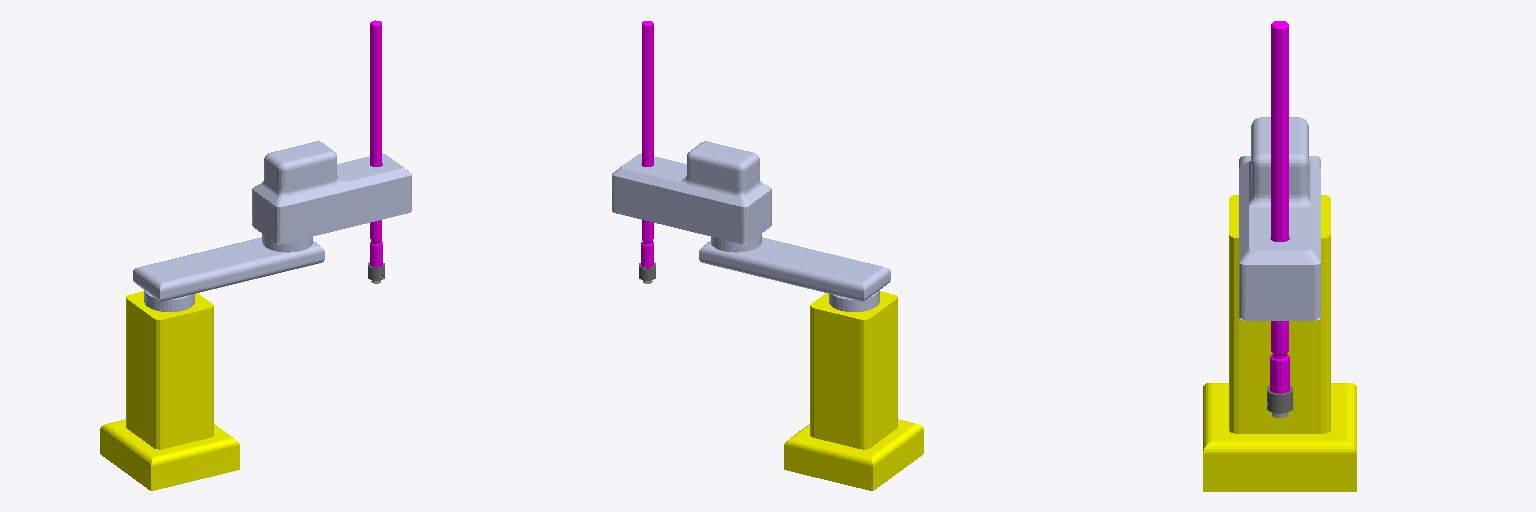
robot.urdf — scara:
<?xml version="1.0" encoding="utf-8"?>
<robot name="scara">

  <!-- Welt- und Basis-Link -->
  <link name="world" />

  <link name="base_link">
    <inertial>
      <origin xyz="8.7173E-18 -3.8342E-18 0.10291" rpy="0 0 0" />
      <mass value="2.7821" />
      <inertia ixx="0.021401" ixy="-1.9687E-19" ixz="-3.5753E-19" iyy="0.021401" iyz="6.9508E-19" izz="0.0074192" />
    </inertial>
    <visual>
      <origin xyz="0 0 0" rpy="0 0 0" />
      <geometry>
        <mesh filename="package://scara/meshes/base_link.STL" />
      </geometry>
      <material name="">
        <color rgba="1 1 0 1" />
      </material>
    </visual>
    <collision>
      <origin xyz="0 0 0" rpy="0 0 0" />
      <geometry>
        <mesh filename="package://scara/meshes/base_link.STL" />
      </geometry>
    </collision>
  </link>

  <joint name="world_joint" type="fixed">
    <parent link="world" />
    <child link="base_link" />
    <origin xyz="0 0 0" rpy="0 0 0" />
  </joint>

  <!-- Link1 -->
  <link name="Link1">
    <inertial>
      <origin xyz="0.08204 -8.9299E-17 0.030511" rpy="0 0 0" />
      <mass value="0.71062" />
      <inertia ixx="0.00037208" ixy="8.7629E-09" ixz="1.5979E-06" iyy="0.0035198" iyz="3.6632E-20" izz="0.0038467" />
    </inertial>
    <visual>
      <geometry>
        <mesh filename="package://scara/meshes/Link1.STL" />
      </geometry>
      <material name="">
        <color rgba="0.79216 0.81961 0.93333 1" />
      </material>
    </visual>
    <collision>
      <geometry>
        <mesh filename="package://scara/meshes/Link1.STL" />
      </geometry>
    </collision>
  </link>

  <joint name="Joint1" type="revolute">
    <origin xyz="0 0 0.26" rpy="0 0 0" />
    <parent link="base_link" />
    <child link="Link1" />
    <axis xyz="0 0 1" />
    <limit lower="-3.14" upper="3.14" effort="100" velocity="1.5" />
  </joint>

  <!-- Link2 -->
  <link name="Link2">
    <inertial>
      <origin xyz="0.051977 6.6437E-09 0.065112" rpy="0 0 0" />
      <mass value="0.99972" />
      <inertia ixx="0.0012785" ixy="-1.638E-10" ixz="0.00047141" iyy="0.0044236" iyz="-1.5222E-10" izz="0.0042708" />
    </inertial>
    <visual>
      <geometry>
        <mesh filename="package://scara/meshes/Link2.STL" />
      </geometry>
      <material name="">
        <color rgba="0.79216 0.81961 0.93333 1" />
      </material>
    </visual>
    <collision>
      <geometry>
        <mesh filename="package://scara/meshes/Link2.STL" />
      </geometry>
    </collision>
  </link>

  <joint name="Joint2" type="revolute">
    <origin xyz="0.2 0 0.05" rpy="0 0 0" />
    <parent link="Link1" />
    <child link="Link2" />
    <axis xyz="0 0 1" />
    <limit lower="-2" upper="2" effort="100" velocity="1.5" />
  </joint>

  <!-- Link3 -->
  <link name="Link3">
    <inertial>
      <origin xyz="2.4043E-10 -4.07E-11 0.077691" rpy="0 0 0" />
      <mass value="0.10305" />
      <inertia ixx="0.0014027" ixy="3.1594E-10" ixz="-3.8252E-12" iyy="0.0014027" iyz="6.4751E-13" izz="4.2483E-06" />
    </inertial>
    <visual>
      <geometry>
        <mesh filename="package://scara/meshes/Link3.STL" />
      </geometry>
      <material name="">
        <color rgba="1 0 1 1" />
      </material>
    </visual>
    <collision>
      <geometry>
        <mesh filename="package://scara/meshes/Link3.STL" />
      </geometry>
    </collision>
  </link>

  <joint name="Joint3" type="prismatic">
    <origin xyz="0.15 0 0.02" rpy="3.1416 0 0" />
    <parent link="Link2" />
    <child link="Link3" />
    <axis xyz="0 0 -1" />
    <limit lower="0.05" upper="0.3" effort="100" velocity="0.3" />
  </joint>

  <!-- Endeffektor (Link4EF) -->
  <link name="Link4EF">
    <inertial>
      <origin xyz="-5.1976E-05 -0.00030708 -0.014939" rpy="0 0 0" />
      <mass value="0.0075676" />
      <inertia ixx="6.4307E-07" ixy="3.7365E-09" ixz="4.4753E-10" iyy="6.6451E-07" iyz="2.6442E-09" izz="7.2342E-07" />
    </inertial>
    <visual>
      <geometry>
        <mesh filename="package://scara/meshes/Link4EF.STL" />
      </geometry>
      <material name="">
        <color rgba="0.50196 0.50196 0.50196 1" />
      </material>
    </visual>
    <collision>
      <geometry>
        <mesh filename="package://scara/meshes/Link4EF.STL" />
      </geometry>
    </collision>
  </link>

  <joint name="Joint4EF" type="revolute">
    <origin xyz="0 0 0.295" rpy="0 0 0" />
    <parent link="Link3" />
    <child link="Link4EF" />
    <axis xyz="0 0 -1" />
    <limit lower="-3.14" upper="3.14" effort="50" velocity="1.5" />
  </joint>

  <!-- Transmissions -->
  <transmission name="Joint1_trans">
    <type>transmission_interface/SimpleTransmission</type>
    <joint name="Joint1">
      <hardwareInterface>hardware_interface/PositionJointInterface</hardwareInterface>
    </joint>
    <actuator name="motor1">
      <hardwareInterface>hardware_interface/PositionJointInterface</hardwareInterface>
      <mechanicalReduction>1</mechanicalReduction>
    </actuator>
  </transmission>

  <transmission name="Joint2_trans">
    <type>transmission_interface/SimpleTransmission</type>
    <joint name="Joint2">
      <hardwareInterface>hardware_interface/PositionJointInterface</hardwareInterface>
    </joint>
    <actuator name="motor2">
      <hardwareInterface>hardware_interface/PositionJointInterface</hardwareInterface>
      <mechanicalReduction>1</mechanicalReduction>
    </actuator>
  </transmission>

  <transmission name="Joint3_trans">
    <type>transmission_interface/SimpleTransmission</type>
    <joint name="Joint3">
      <hardwareInterface>hardware_interface/PositionJointInterface</hardwareInterface>
    </joint>
    <actuator name="motor3">
      <hardwareInterface>hardware_interface/PositionJointInterface</hardwareInterface>
      <mechanicalReduction>1</mechanicalReduction>
    </actuator>
  </transmission>

  <transmission name="Joint4EF_trans">
    <type>transmission_interface/SimpleTransmission</type>
    <joint name="Joint4EF">
      <hardwareInterface>hardware_interface/PositionJointInterface</hardwareInterface>
    </joint>
    <actuator name="motor4">
      <hardwareInterface>hardware_interface/PositionJointInterface</hardwareInterface>
      <mechanicalReduction>1</mechanicalReduction>
    </actuator>
  </transmission>

  <!-- Gazebo Plugin -->
  <gazebo>
    <plugin name="gazebo_ros_control" filename="libgazebo_ros_control.so" />
  </gazebo>

</robot>


--- Facts derived from the render (not from the file) ---
3 views of the same robot in one strip: view 1: azimuth 30°, elevation 25°; view 2: azimuth 150°, elevation 25°; view 3: azimuth 270°, elevation 25° (orthographic).
Robot: scara — 6 links, 5 joints (3 revolute, 1 prismatic, 1 fixed); root link world; default pose: all joints at 0 but 1 set to mid-range because 0 is outside their limits (Joint3 = 0.175).
Visible links, largest first — view 1: base_link, Link2, Link1, Link3; view 2: base_link, Link2, Link1, Link3; view 3: base_link, Link2, Link3, Link4EF.
Link boxes in pixels (<box>): base_link: <box>100,291,239,490</box>; Link2: <box>252,141,411,252</box>; Link1: <box>133,237,324,311</box>; Link3: <box>370,20,382,267</box>; base_link: <box>784,291,923,490</box>; Link2: <box>612,141,771,252</box>; Link1: <box>699,237,890,311</box>; Link3: <box>641,21,653,267</box>; base_link: <box>1203,195,1356,491</box>; Link2: <box>1239,117,1320,320</box>; Link3: <box>1270,21,1289,393</box>; Link4EF: <box>1267,386,1292,417</box>.
Bounding box of the posed robot: 0.465 × 0.15 × 0.6298 m (x, y, z).
5 mesh visuals loaded from 5 distinct referenced files (5 binary STL).